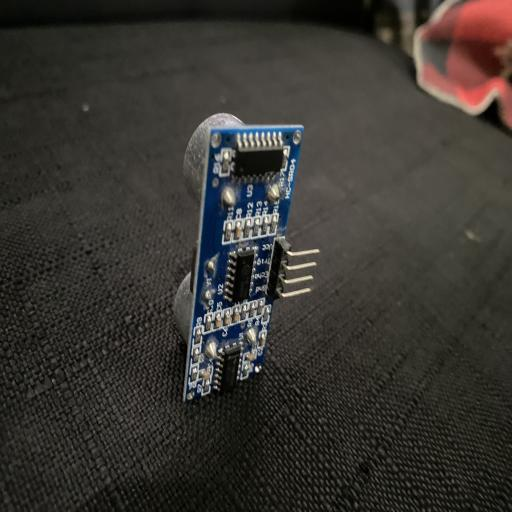Ultrasonic Sensor: (172, 112, 320, 402)
